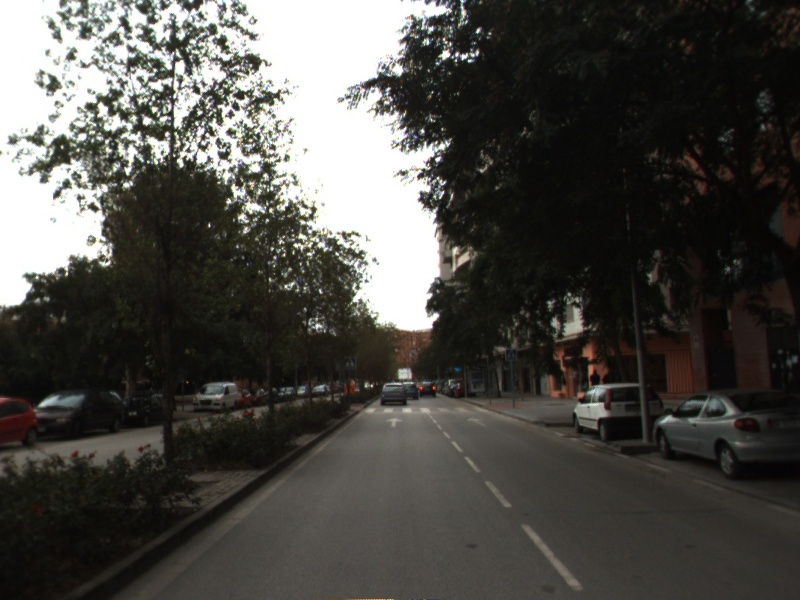STRAIGHT: (464, 415, 490, 429), (383, 416, 406, 429)
